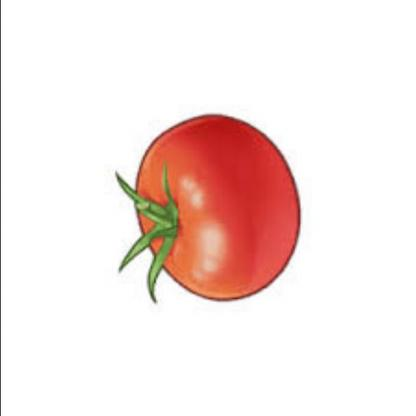tomato: (123, 96, 307, 315)
